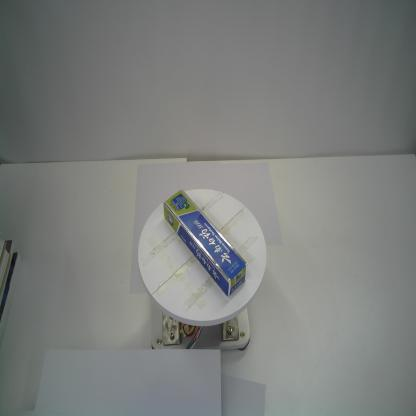Personal Hygiene: (163, 189, 248, 298)
